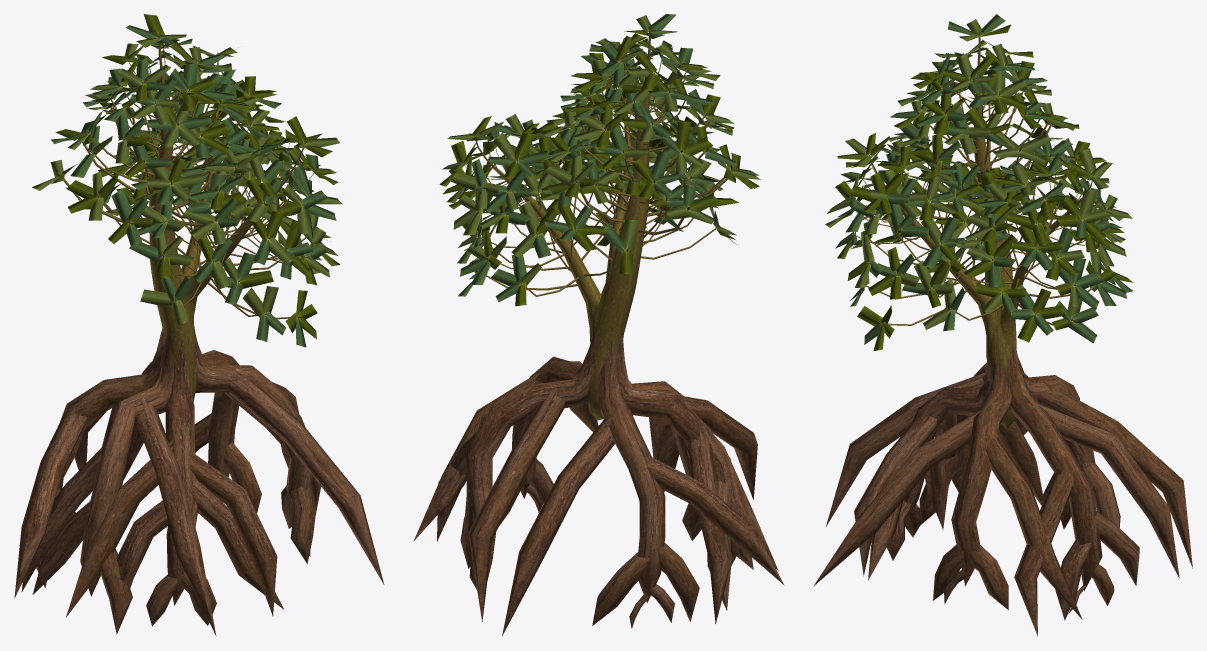
The model's file is Mangrovetree.glb.
3 renders of one model, left to right at view 1: azimuth 30°, elevation 25°; view 2: azimuth 150°, elevation 25°; view 3: azimuth 270°, elevation 25°, orthographic. The views are drawn at different scales.
Visible parts, largest first — view 1: bush_5; view 2: bush_5; view 3: bush_5.
Part boxes in pixels (x1,y1,x2,y2): bush_5: [14, 14, 384, 635]; bush_5: [413, 14, 784, 636]; bush_5: [813, 14, 1192, 636].
Bounding box in the file's own units: 1.7 × 2.79 × 1.78.
Materials: 6 (6 with a texture image).
